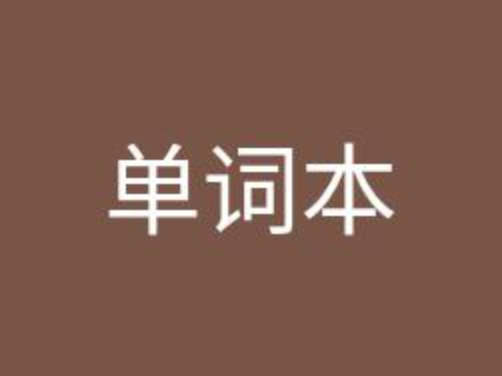TextView: (1, 1, 501, 375)
